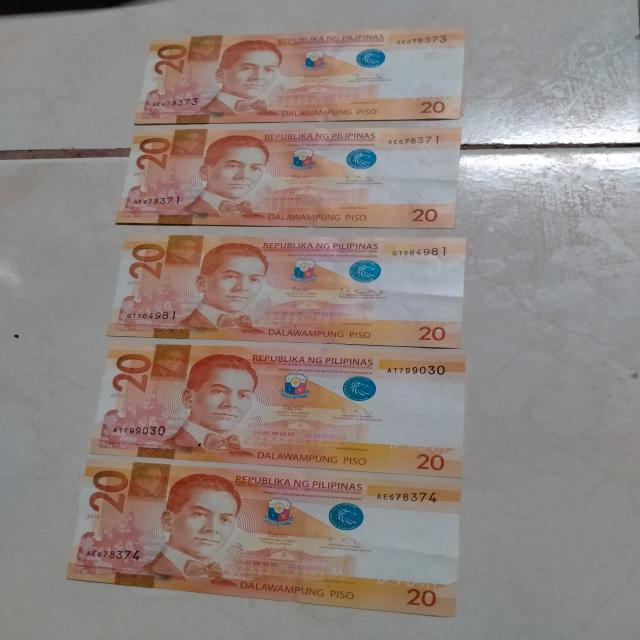concealed_value: (149, 346, 186, 383), (168, 128, 205, 158)
see_through_mark: (370, 570, 441, 591), (386, 313, 449, 326)
serial_number: (78, 541, 144, 565), (374, 485, 444, 507), (106, 420, 168, 438), (384, 360, 450, 376), (123, 304, 178, 322), (391, 244, 448, 259)
value: (104, 347, 156, 408), (124, 237, 168, 285)
value_watermark: (437, 68, 455, 83), (435, 170, 450, 188)
watermark: (376, 364, 446, 444), (388, 250, 451, 312)
